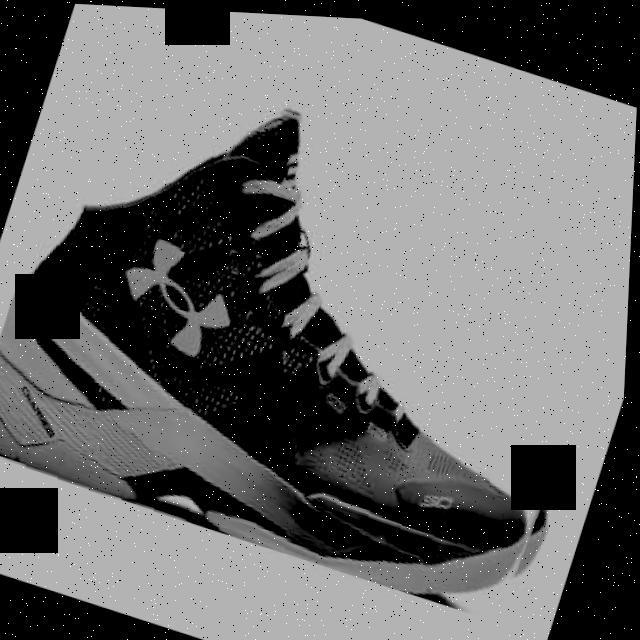shoe: (0, 37, 639, 627)
